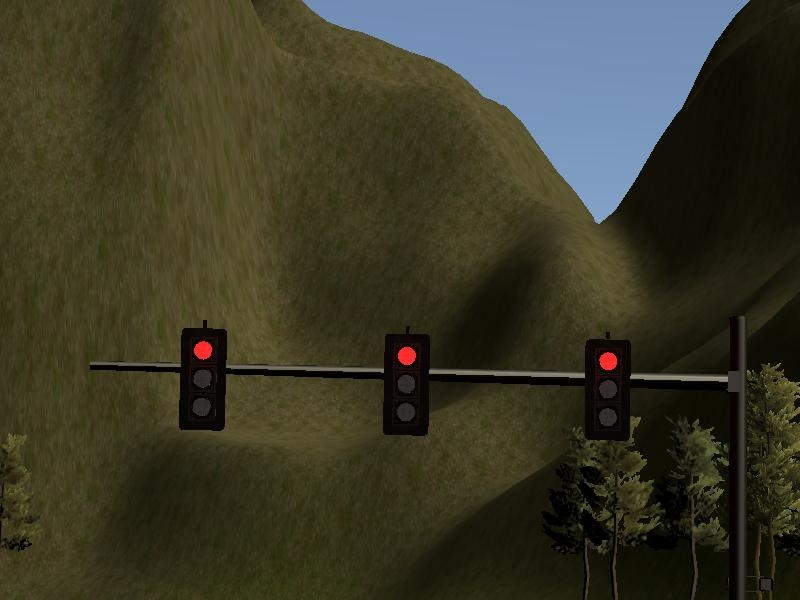red: (582, 339, 630, 437), (180, 328, 224, 432), (384, 334, 426, 436)
